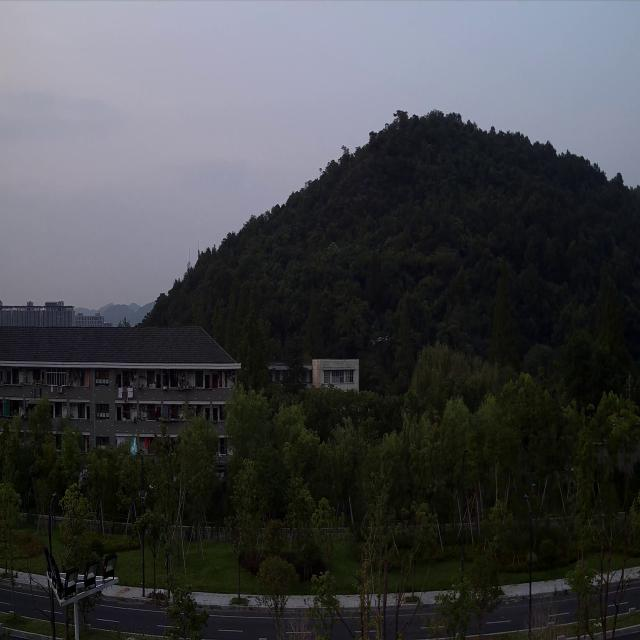UAV: (371, 332, 391, 345)
